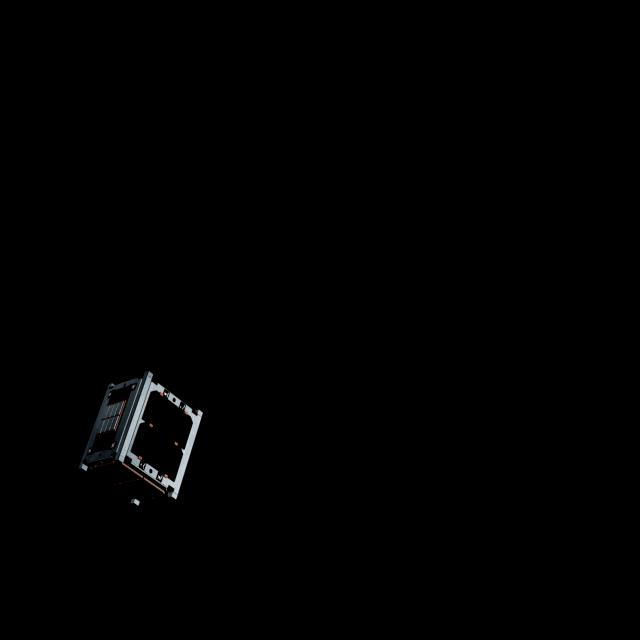medium_debris: (70, 372, 203, 514)
